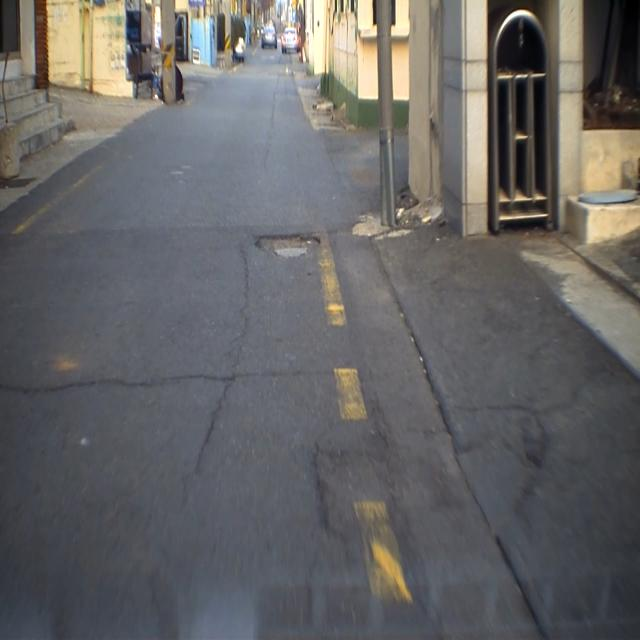Pothole: (253, 214, 324, 276), (506, 431, 550, 494)
